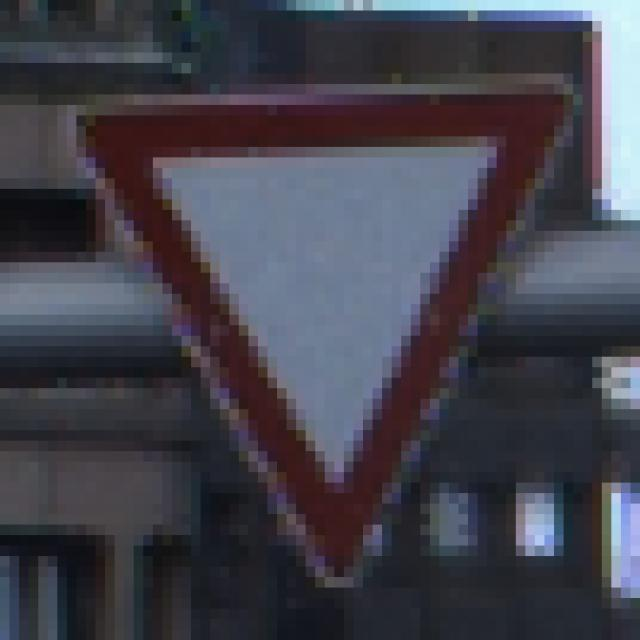Give Way: (58, 54, 584, 589)
